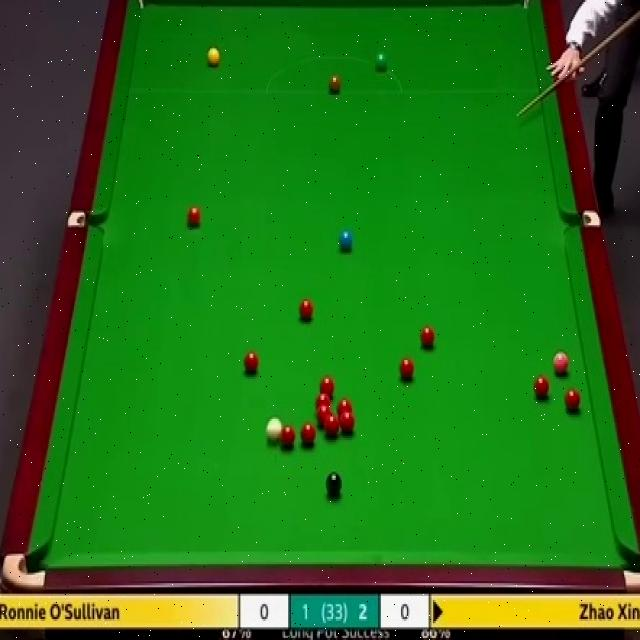black-ball: (326, 470, 342, 500)
blue-ball: (338, 228, 354, 251)
brown-ball: (328, 73, 341, 95)
green-ball: (374, 52, 388, 73)
pink-ball: (553, 349, 569, 376)
red-ball: (299, 420, 317, 450), (242, 349, 260, 378), (278, 423, 296, 449), (339, 411, 356, 436), (535, 375, 552, 400), (398, 357, 414, 383), (420, 324, 436, 350), (564, 389, 582, 412), (186, 206, 203, 229), (298, 299, 314, 322), (325, 413, 339, 438), (318, 376, 335, 394), (316, 406, 331, 426), (316, 392, 330, 409), (337, 400, 352, 414)
white-ball: (265, 417, 282, 442)
yellow-ball: (208, 48, 222, 69)
